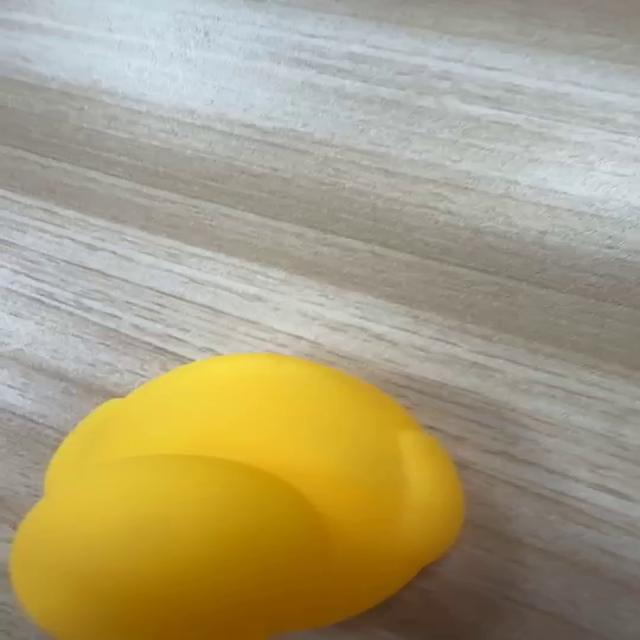yellow_duck: (7, 351, 466, 638)
